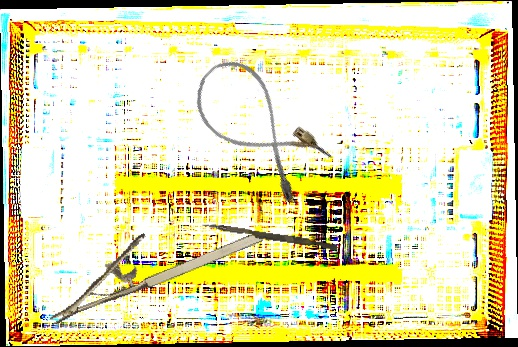Cannula: (179, 47, 338, 208)
Needle Holder: (33, 195, 266, 326)
Pusher: (201, 222, 338, 251)
